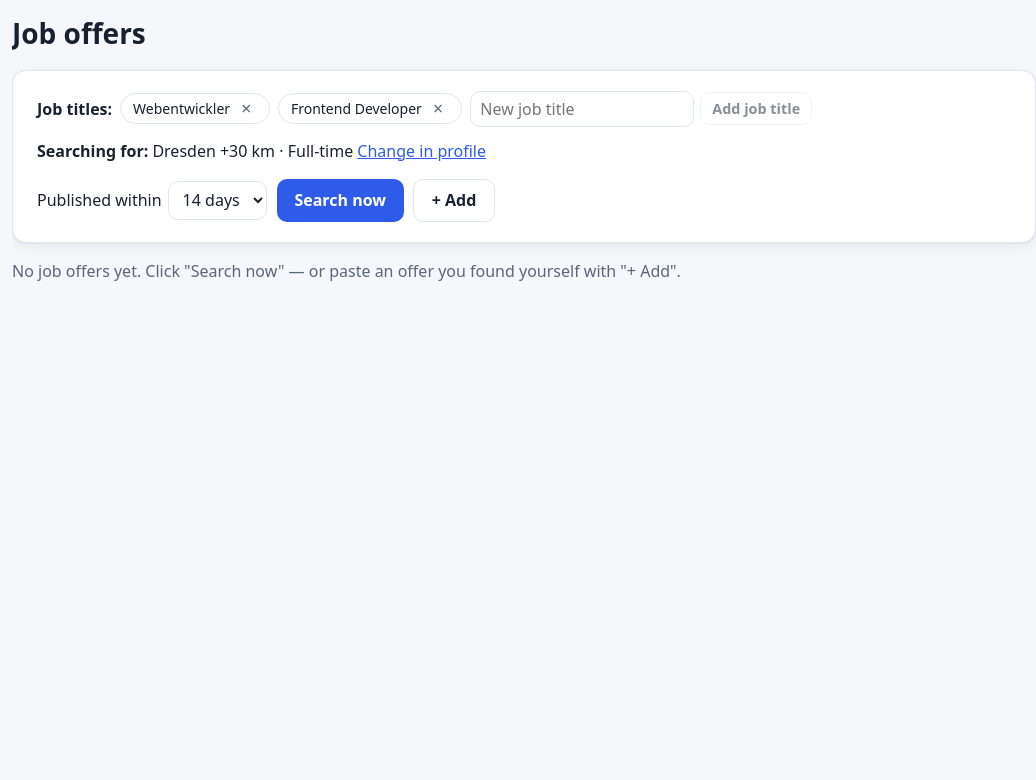
Scenario: VacanciesPage — search flow › start → polls while running and shows new cards → stops polling when done
What coordinates should you click on to do the following:
click the button "Search now"
I would click on:
 (340, 200)
Its box is top-left (277, 179), bottom-right (404, 222).
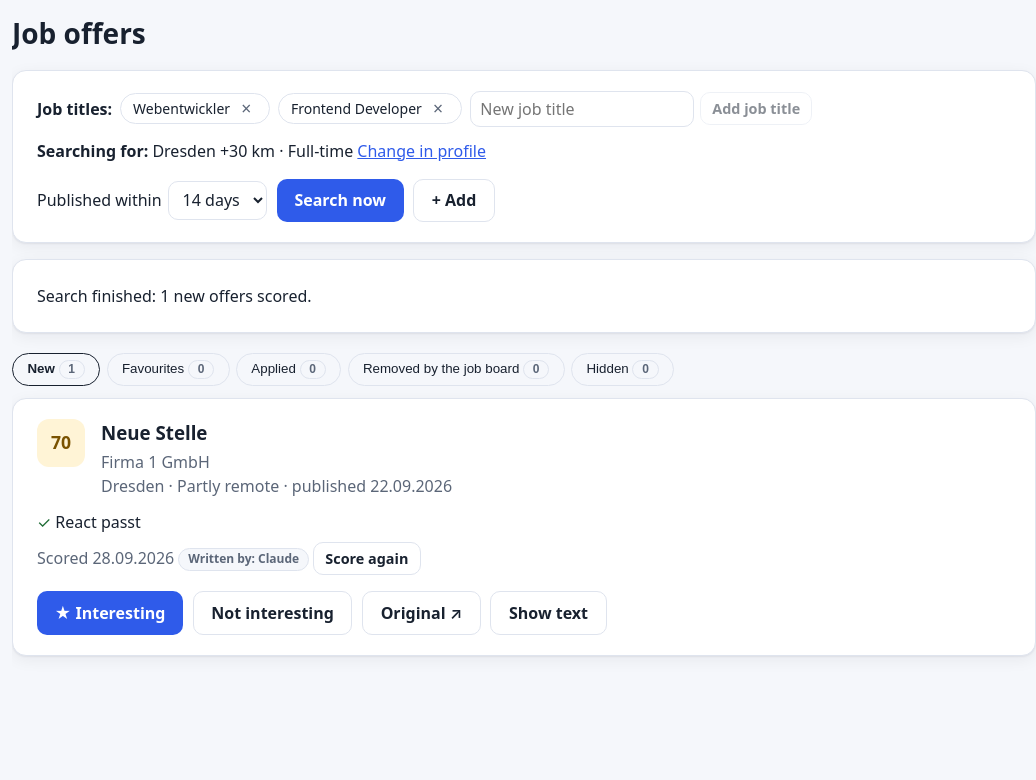
Expected: the heading "Neue Stelle" is shown, top-left (101, 420), bottom-right (207, 445)
Expected: the text "Search finished: 1 new offers scored." is shown, top-left (37, 285), bottom-right (312, 307)
